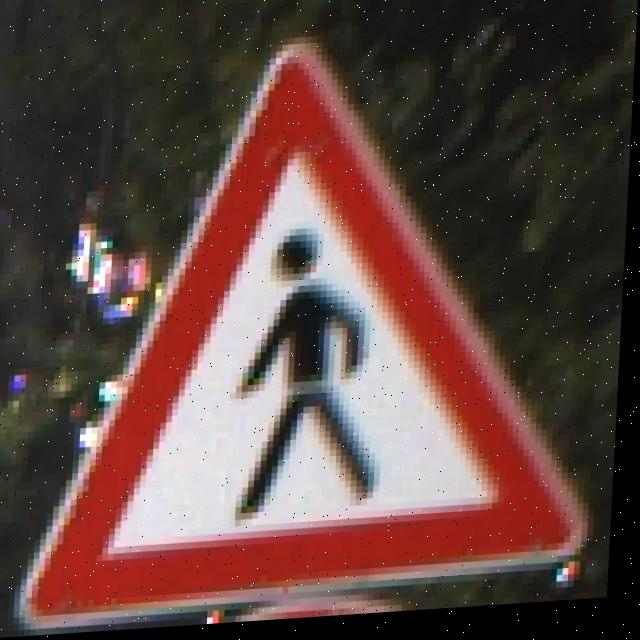crosswalk: (91, 55, 620, 617)
